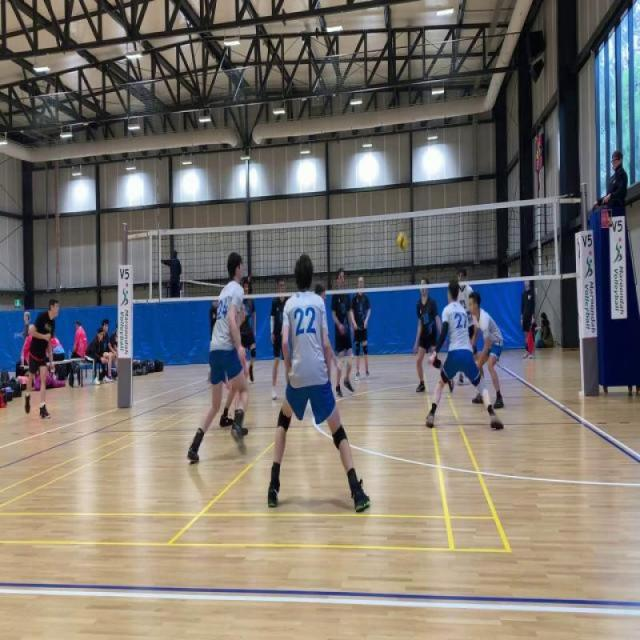volleyball: (395, 230, 410, 253)
